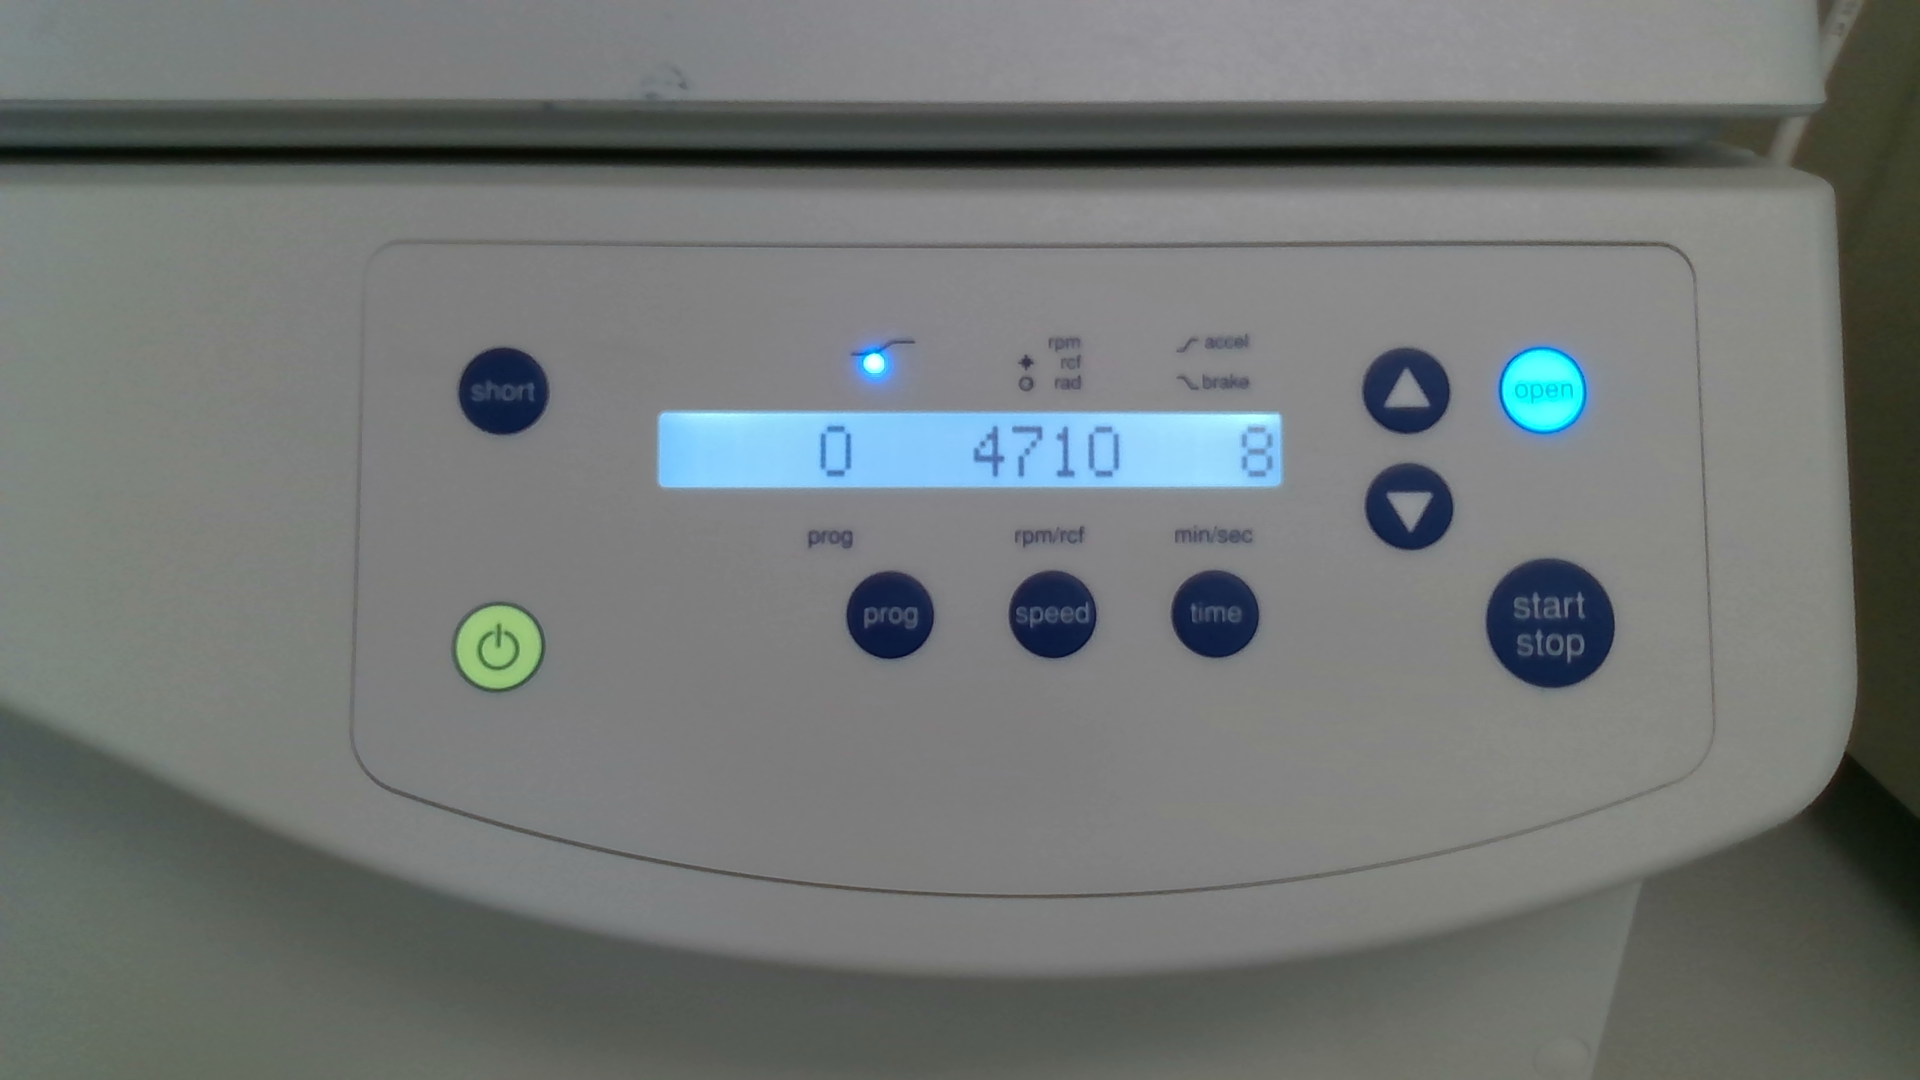0: (1088, 426, 1120, 477), (820, 426, 851, 477)
1: (1056, 426, 1075, 477)
4: (973, 426, 1004, 477)
7: (1011, 426, 1043, 477)
8: (1242, 426, 1273, 477)
open_on: (1498, 345, 1588, 434)
power_on: (452, 601, 546, 694)
